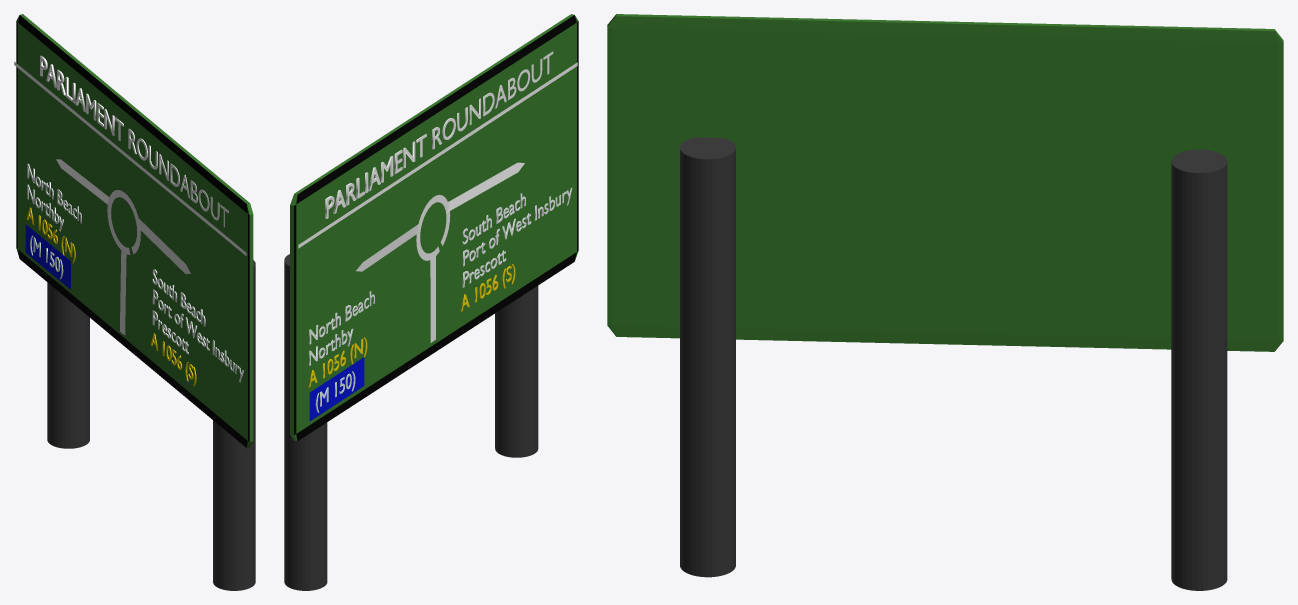
The model's file is RoundaboutSignPRES1.fbx.
3 renders of one model, left to right at view 1: azimuth 30°, elevation 25°; view 2: azimuth 150°, elevation 25°; view 3: azimuth 270°, elevation 25°, orthographic. The views are drawn at different scales.
Visible parts, largest first — view 1: Cube.030, Cylinder.001, Cylinder.002, Text.007, Text.003, Plane.001, DashedLine, Text.012, Circle.003, Plane.005, Plane, Text.001 (+3 smaller); view 2: Cube.030, Cylinder.002, Cylinder.001, Text.007, Text.003, Plane.001, DashedLine, Text.012, Plane.005, Circle.003, Plane.004, Plane (+2 smaller); view 3: Cube.030, Cylinder.002, Cylinder.001.
Part boxes in pixels (box(x1,y1,x2,y2)): Cube.030: box(16, 14, 253, 447); Cylinder.001: box(213, 260, 255, 590); Cylinder.002: box(47, 282, 89, 448); Text.007: box(40, 55, 228, 227); Text.003: box(152, 269, 243, 382); Plane.001: box(25, 224, 70, 289); DashedLine: box(14, 61, 246, 255); Text.012: box(27, 163, 81, 231); Circle.003: box(107, 190, 140, 255); Plane.005: box(138, 218, 190, 274); Plane: box(119, 247, 126, 334); Text.001: box(26, 207, 75, 263); Cube.030: box(290, 14, 578, 441); Cylinder.002: box(284, 254, 327, 590); Cylinder.001: box(495, 286, 538, 457); Text.007: box(325, 51, 553, 218); Text.003: box(462, 187, 572, 287); Plane.001: box(309, 357, 364, 421); DashedLine: box(298, 62, 577, 248); Text.012: box(309, 291, 374, 365); Plane.005: box(447, 162, 524, 212); Circle.003: box(416, 195, 450, 260); Plane.004: box(356, 224, 418, 271); Plane: box(430, 252, 435, 342); Cube.030: box(607, 14, 1283, 351); Cylinder.002: box(1171, 149, 1227, 590); Cylinder.001: box(680, 137, 735, 577).
Size of the model in its own units: 1.12 by 6.7 by 7.65.
